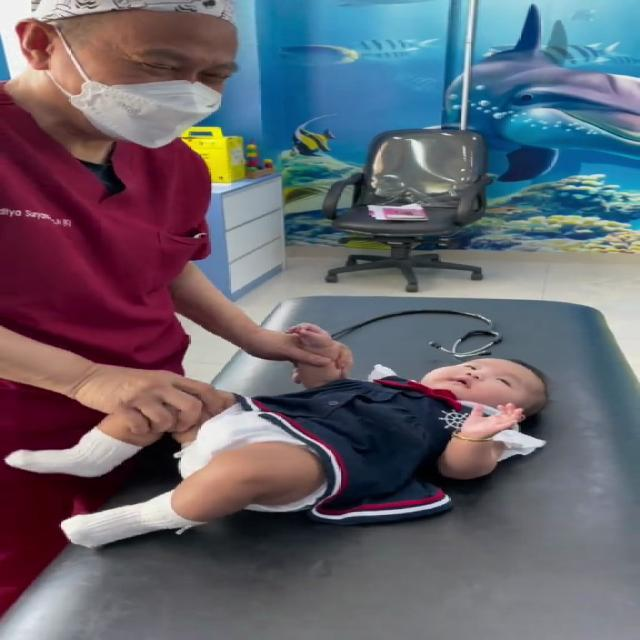baby: (1, 323, 548, 550)
